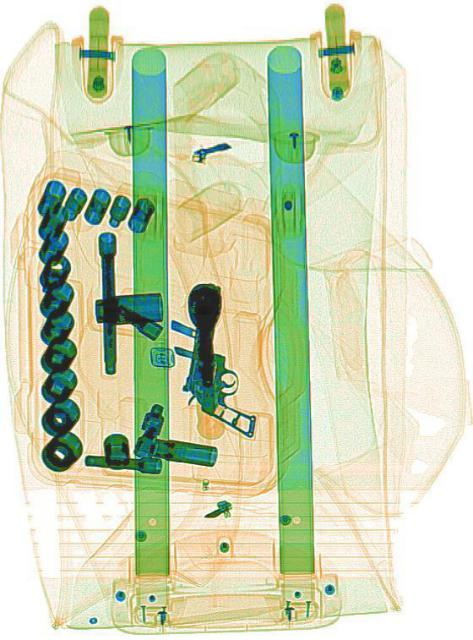Gun: (176, 280, 277, 438)
